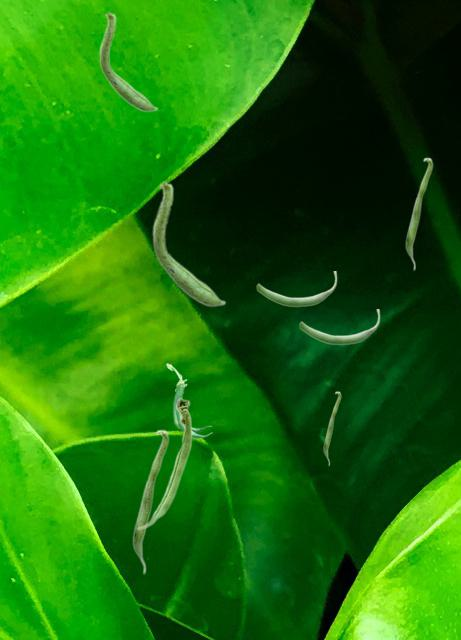french_bean: (152, 180, 225, 306), (136, 397, 191, 529), (99, 11, 157, 111), (132, 429, 168, 574), (166, 363, 211, 437), (405, 157, 432, 270), (256, 271, 336, 306), (299, 309, 379, 344), (323, 391, 340, 465)
